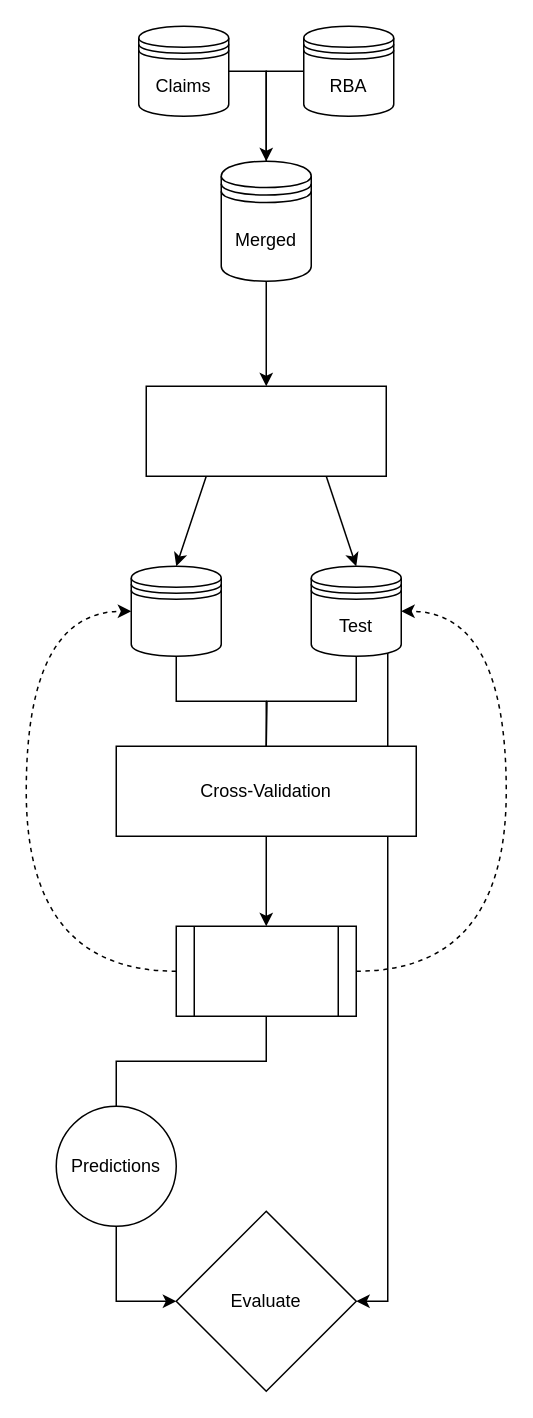
Image size: 533x1418. Some labels were removed from this diagram. The shapes that lost their labels are listed below. From the top down, each one's box as (x1, y1, x2, y2) in pixels, then its label:
(145, 385, 386, 476): Feature Engineering Dataset Splits
(130, 565, 221, 656): Train
(175, 925, 356, 1016): Modeling
